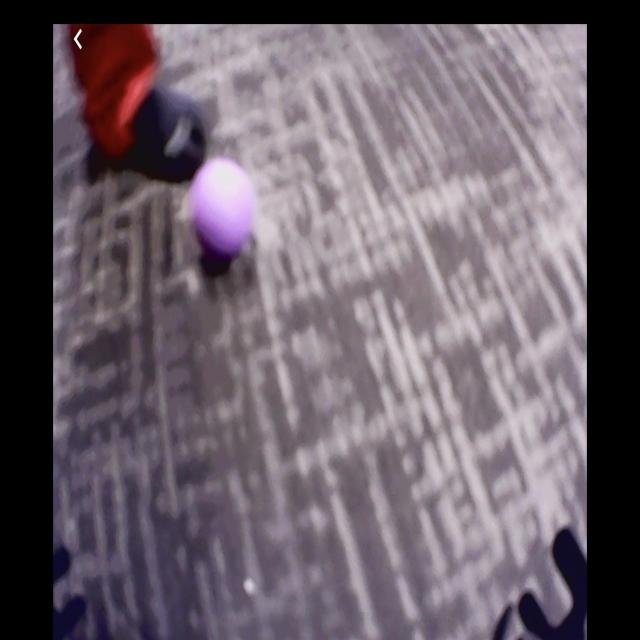ball: (192, 161, 255, 261)
